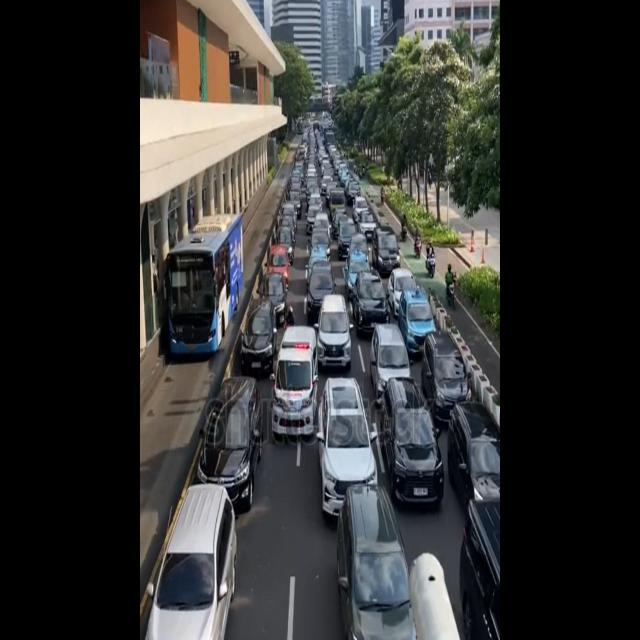Ambulance: (272, 317, 323, 438)
